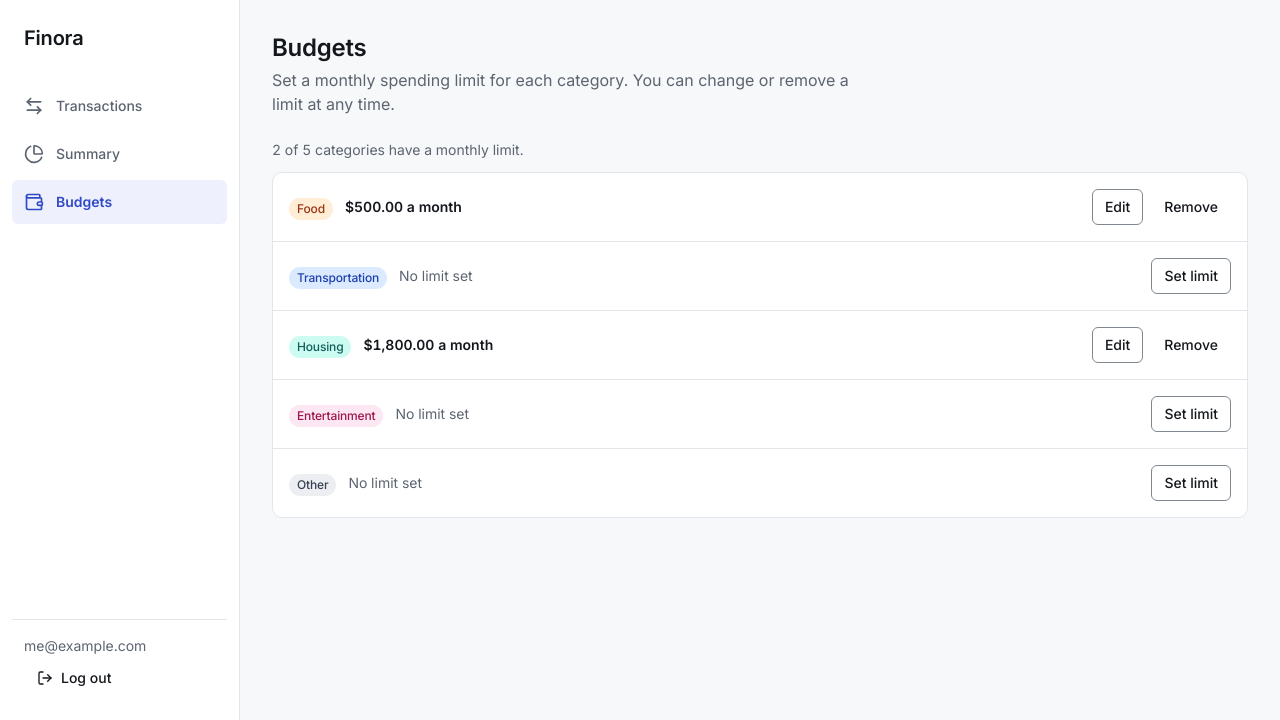
Test: setting and editing a limit (US-32) › Cancel closes the form without saving and returns focus to Edit
This screenshot has width=1280, height=720.
Expected: the heading "Food" is shown, [289,194,333,220]
Click the button "Edit" in the row of "Food".
click(1118, 207)  # box [1092,189,1143,225]
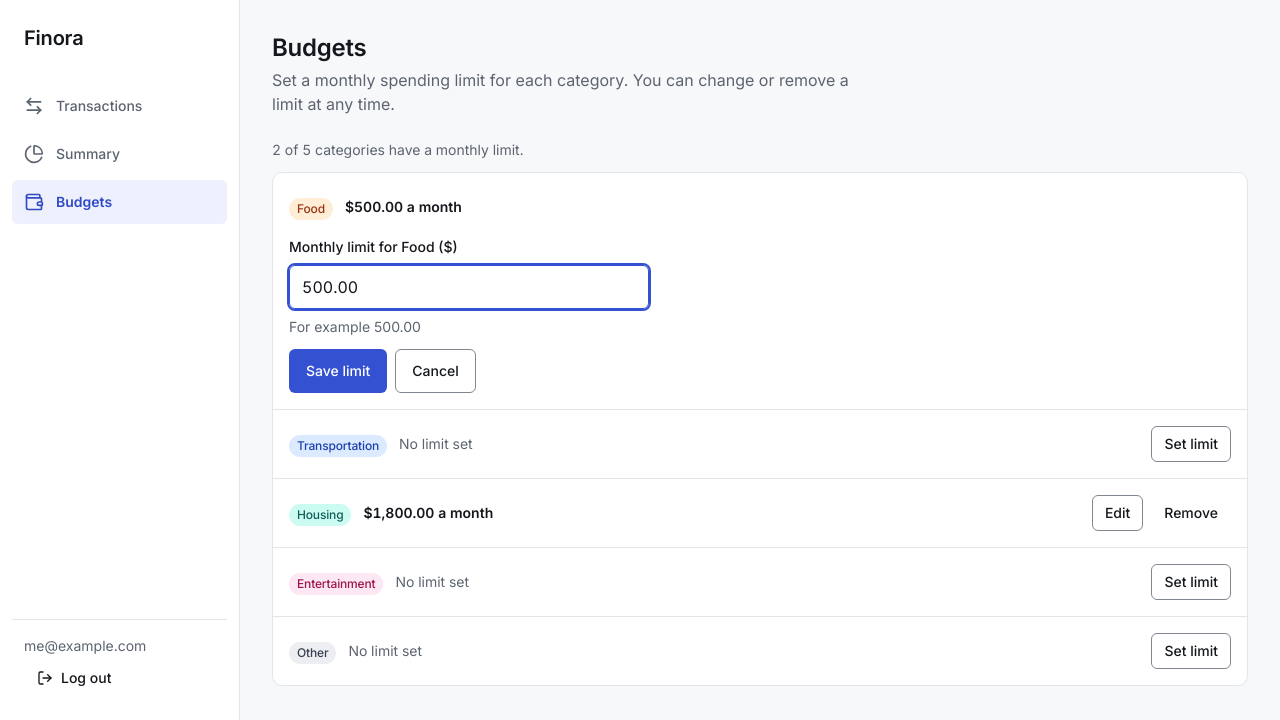
Replace the text in the field labelled "Monthly limit for Food ($)" with "9" at (469, 287), box [289,265,649,309]
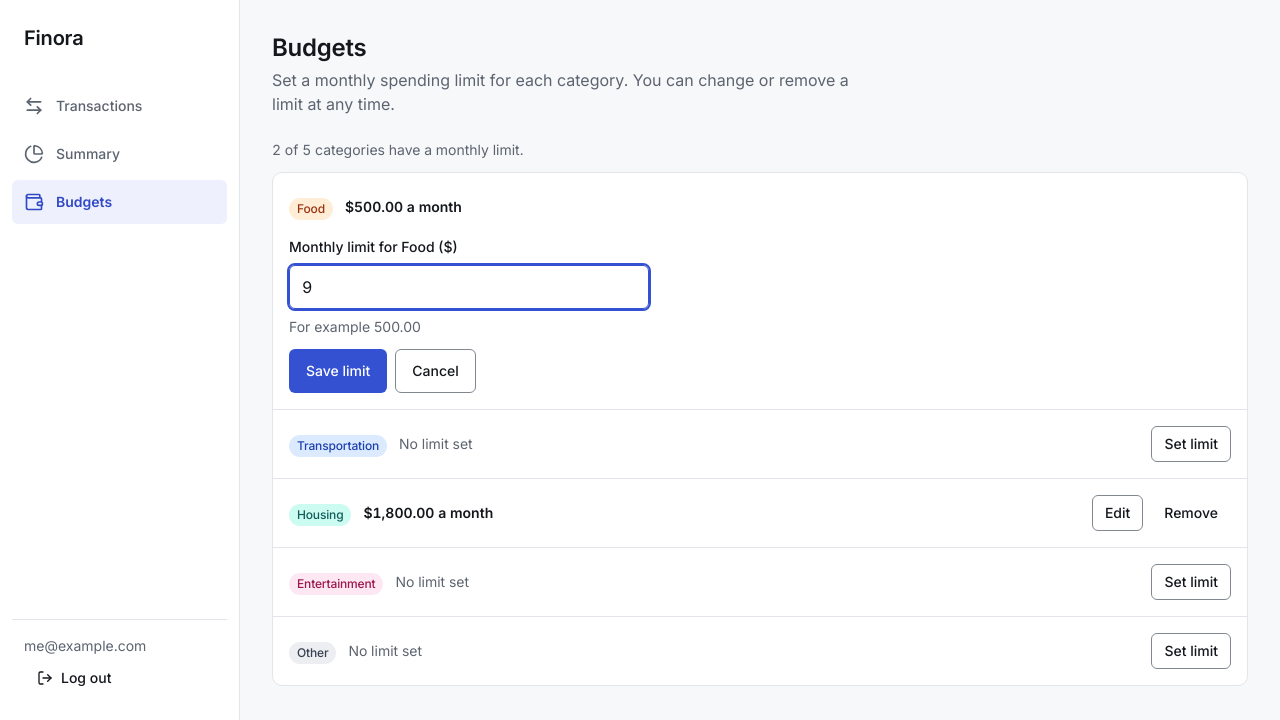
Click the button "Cancel".
click(436, 371)  # box [395,349,476,393]
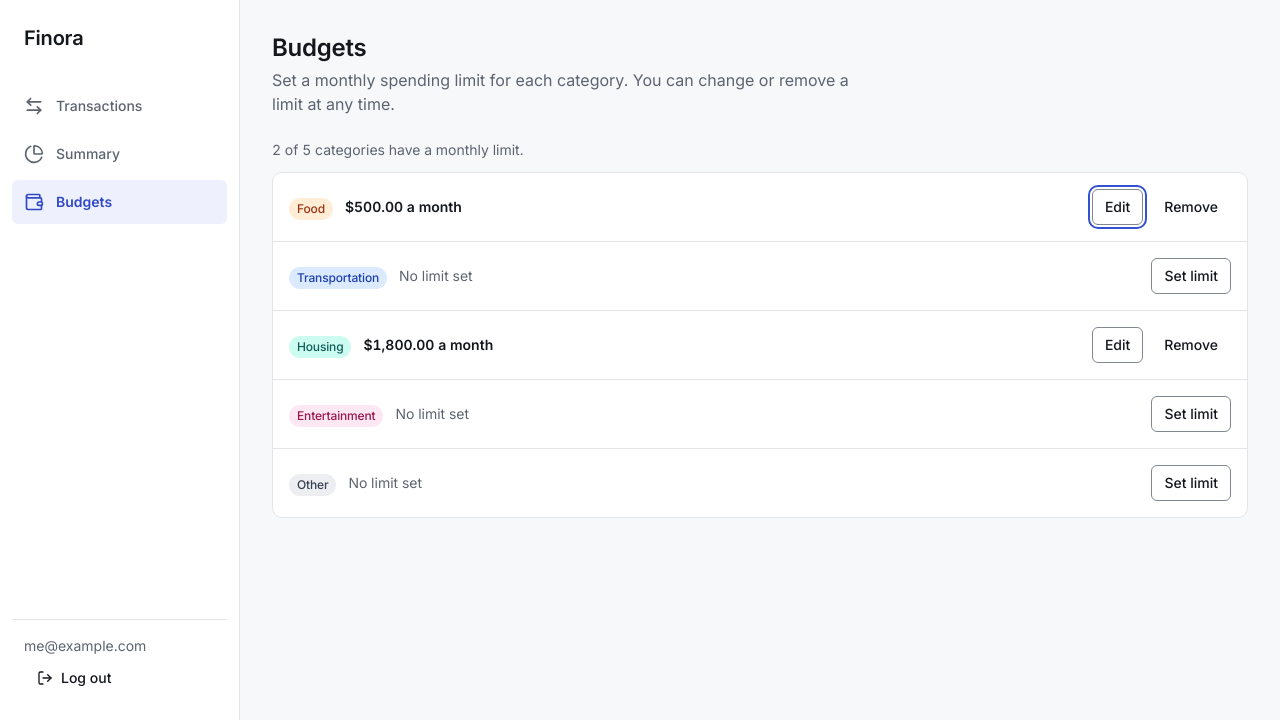
Expected: the list item "Food" shows "$500.00 a month", [345,198,462,215]
Result: the label labelled "Monthly limit for Food ($)" is gone
